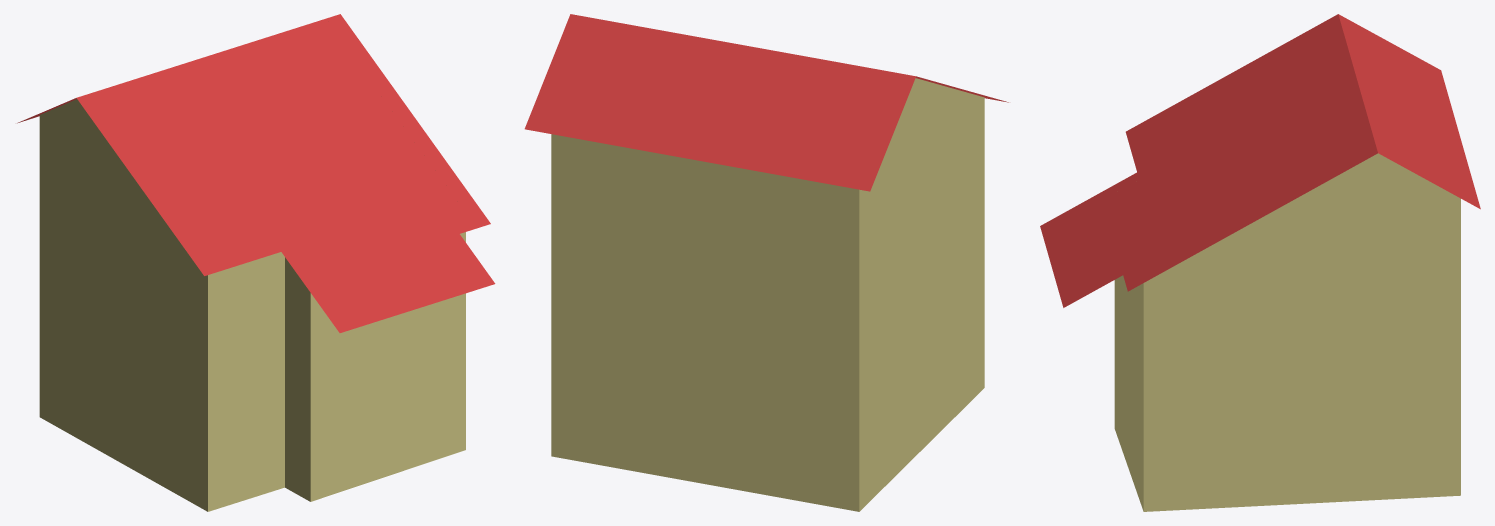
3 renders of one model, left to right at view 1: azimuth 30°, elevation 25°; view 2: azimuth 150°, elevation 25°; view 3: azimuth 270°, elevation 25°, orthographic. The views are drawn at different scales.
Size of the model in its own units: 10.3 by 12.21 by 10.83.
